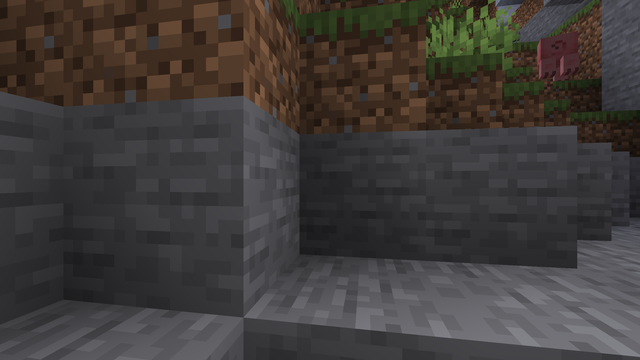cochons: (530, 31, 590, 80)
